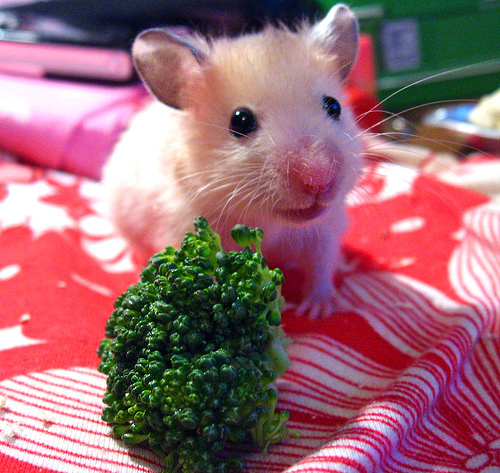broccoli: (92, 214, 304, 471)
